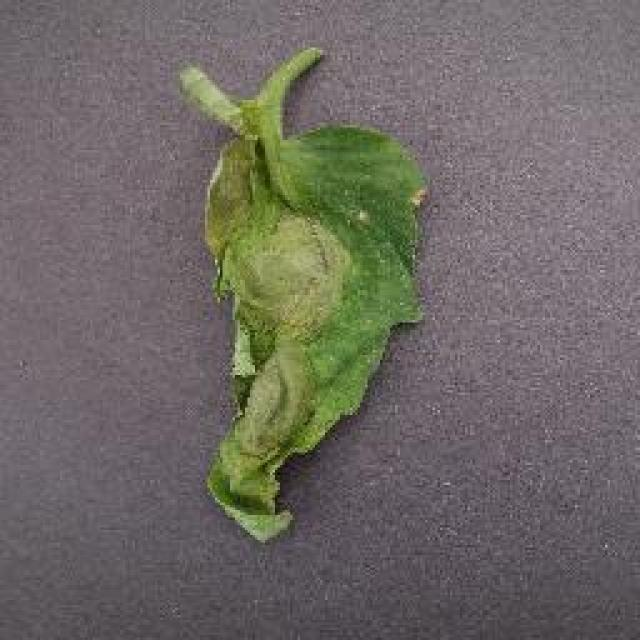Tomato Late Blight: (175, 165, 340, 505)
